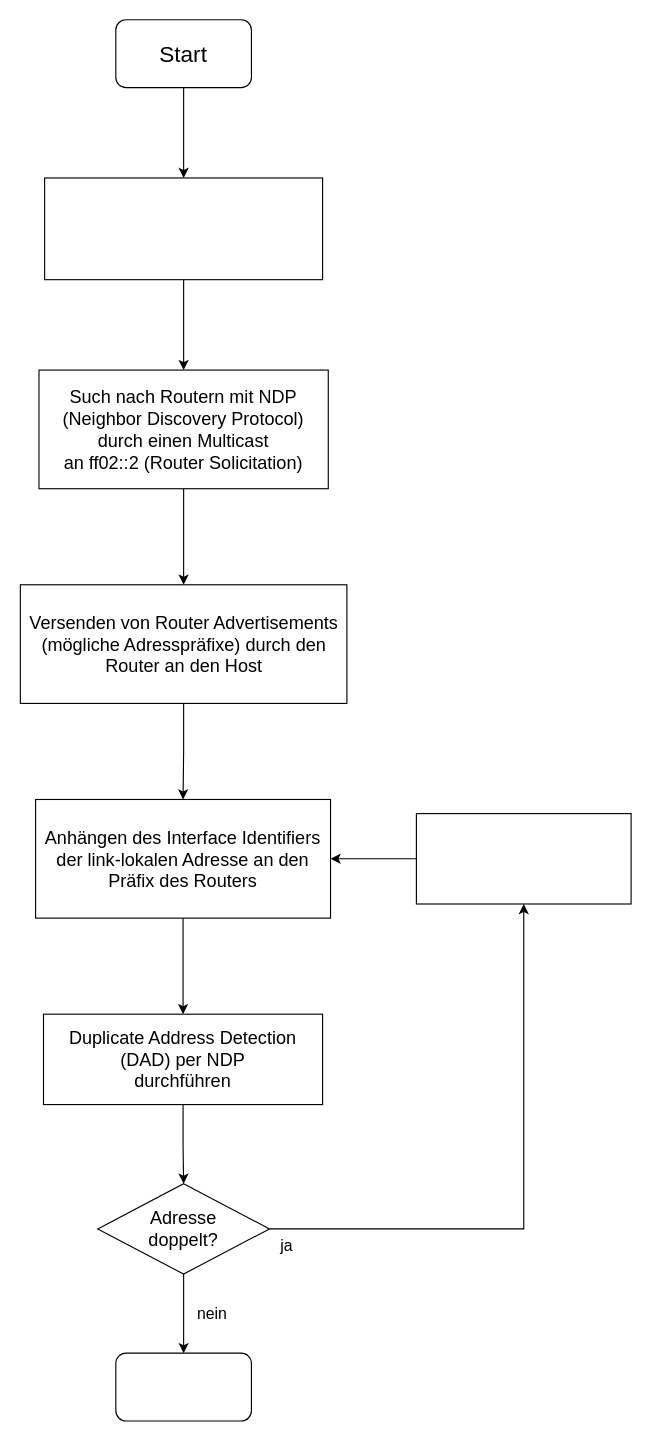
Some shapes in this 651 by 1441 pixel diagram are drawn without their labels. Each missing label, with the centre of its shape:
"Ende" goes at [183,1386].
"Host weist sich link-lokale Adresse zu (Berechnung mit MAC-Adresse)" goes at [183,228].
"Identifier per Zufall bestimmen" goes at [523,858].
